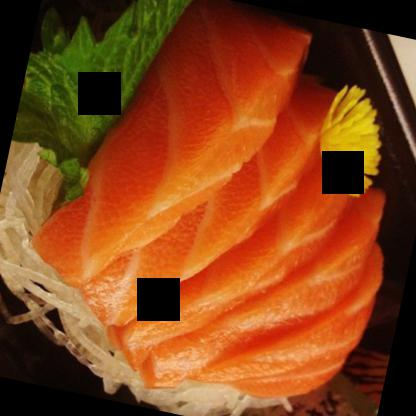salmon: (20, 0, 323, 327), (68, 49, 343, 367), (100, 118, 366, 406), (139, 156, 385, 415)
